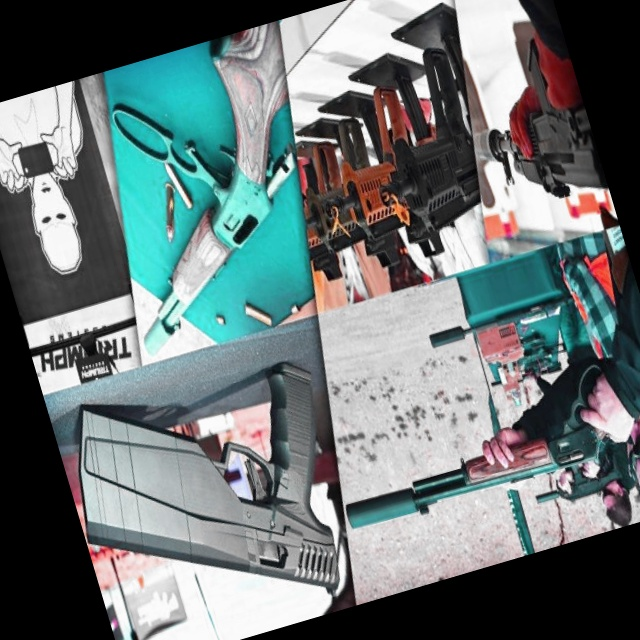gun: (68, 37, 337, 362), (321, 340, 640, 573)
